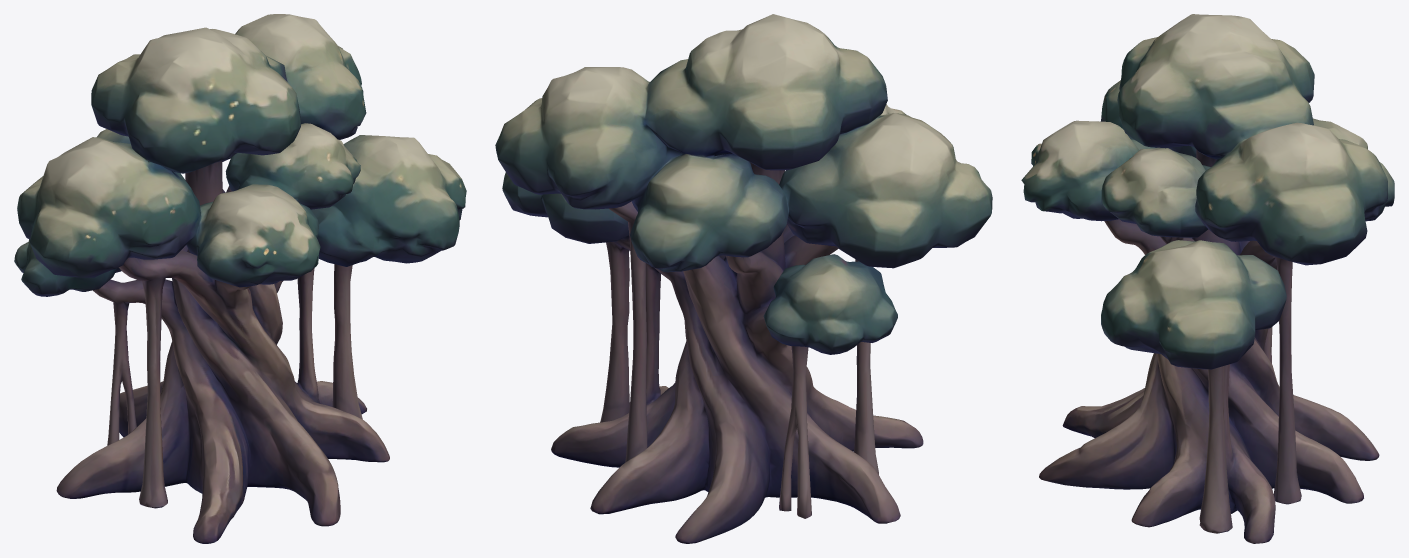
File: banyan.glb
3 renders of one model, left to right at view 1: azimuth 30°, elevation 25°; view 2: azimuth 150°, elevation 25°; view 3: azimuth 270°, elevation 25°, orthographic. The views are drawn at different scales.
Parts seen in each view (by area): view 1: banyan; view 2: banyan; view 3: banyan.
Part boxes in pixels (left/top/right/bottom): banyan: left=14, top=14, right=466, bottom=543; banyan: left=495, top=14, right=992, bottom=543; banyan: left=1021, top=14, right=1394, bottom=543.
Size of the model in its own units: 9.37 by 9 by 6.97.
1 material, 1 textured.
